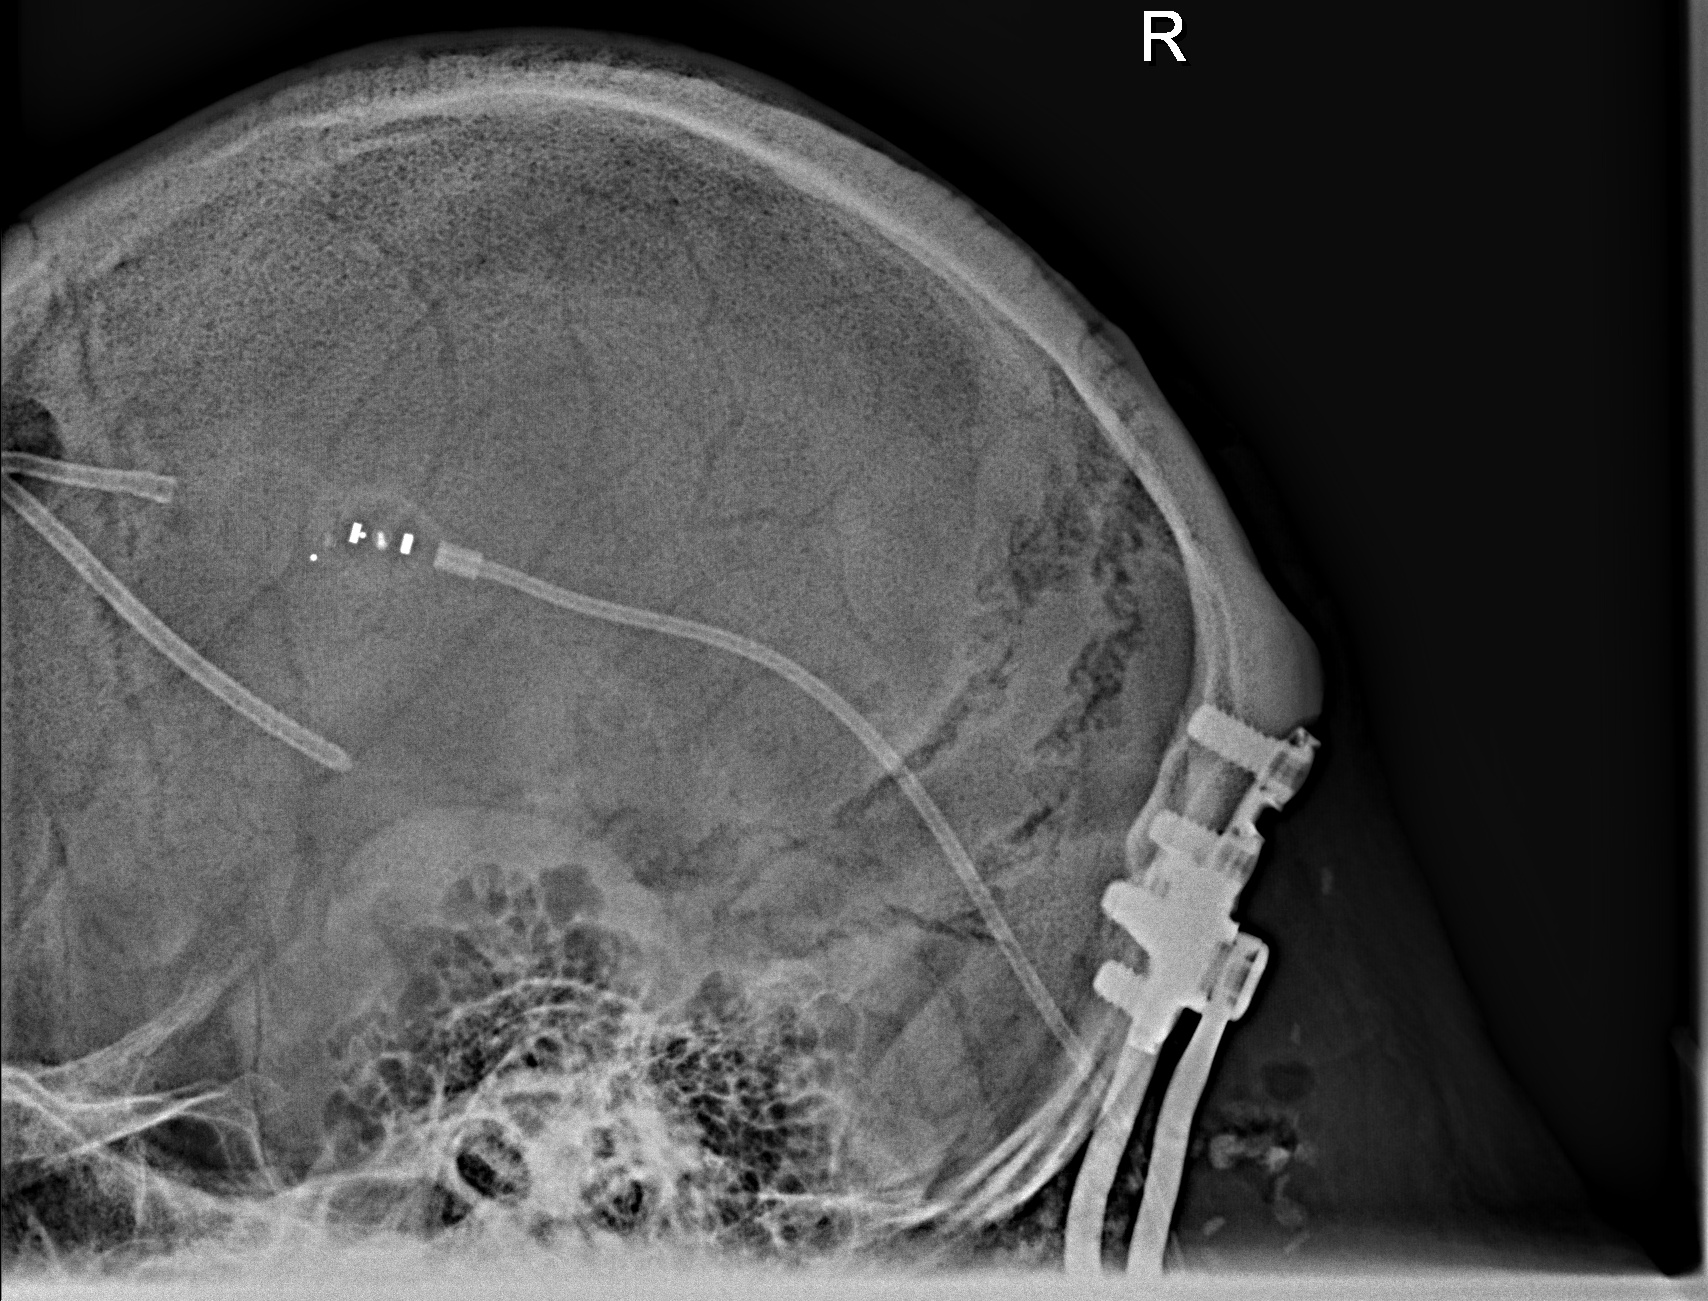Codman Certas: (301, 480, 435, 596)
